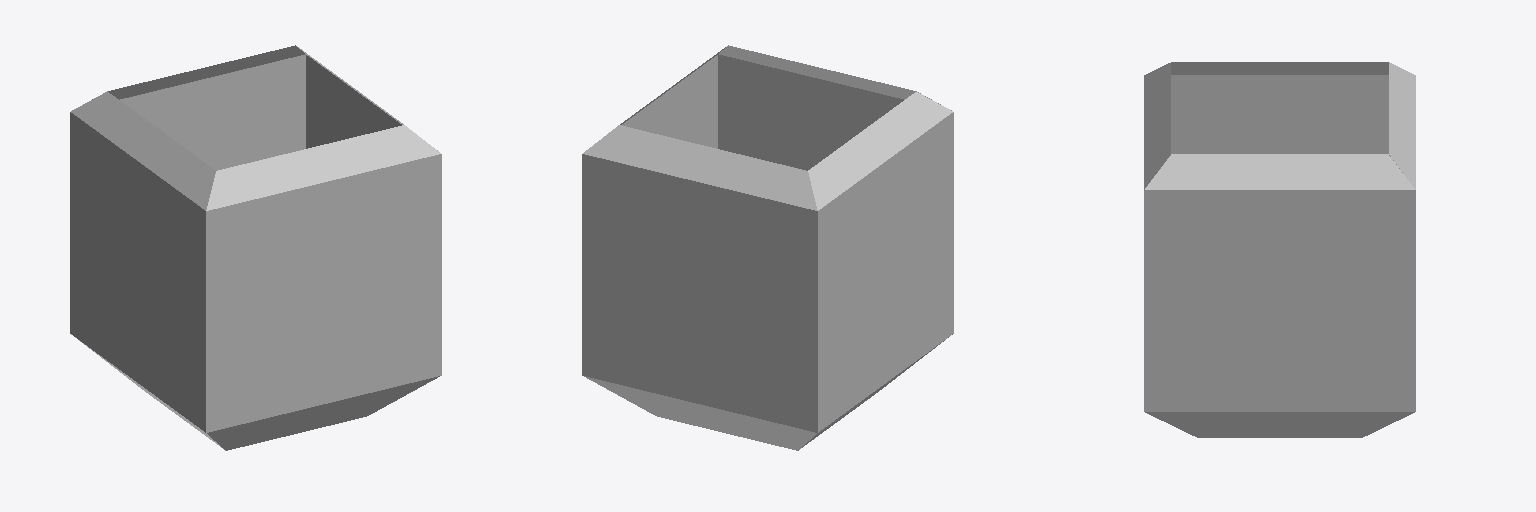
The model's file is burner_flame-1.obj.
The picture shows the model from 3 angles: view 1: azimuth 30°, elevation 25°; view 2: azimuth 150°, elevation 25°; view 3: azimuth 270°, elevation 25°; orthographic projection.
Parts seen in each view (by area): view 1: cube; view 2: cube; view 3: cube.
Part boxes in pixels (left/top/right/bottom): cube: left=70, top=45, right=441, bottom=450; cube: left=582, top=45, right=953, bottom=450; cube: left=1144, top=62, right=1415, bottom=437.
Size of the model in its own units: 0.625 by 0.75 by 0.625.